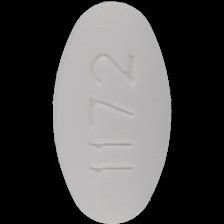0093-1172: (0, 0, 224, 224)
